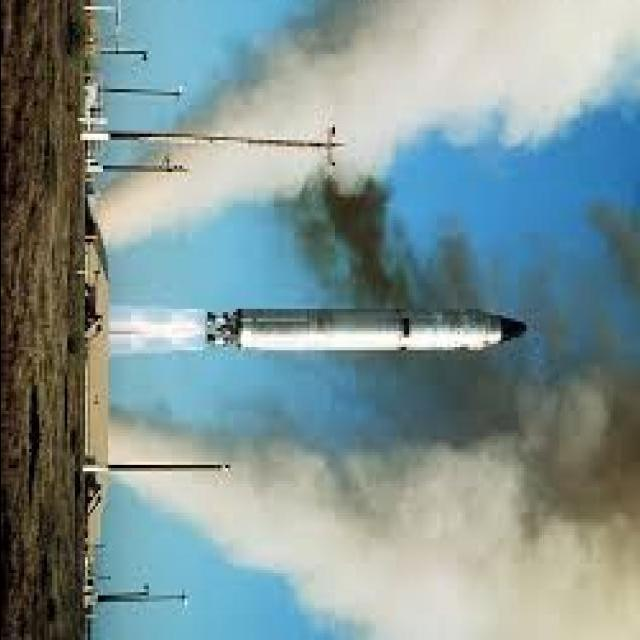missile: (227, 303, 528, 351)
